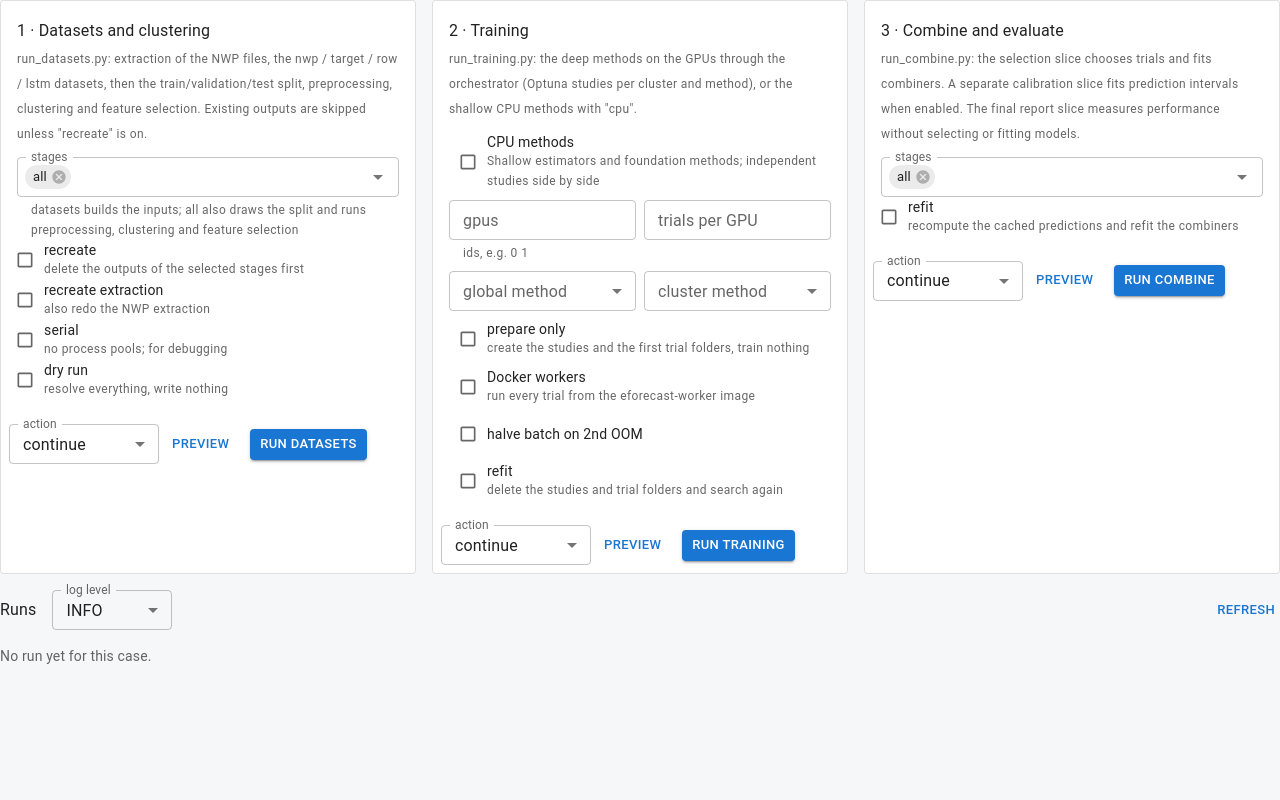
Test: run actions and failures › starts, inspects, stops and deletes a run through the HTTP boundary
Expected: the text "No run yet for this case." is shown, [0,648,152,664]
Click the button "Run training": (739, 545) [682,530,795,561]
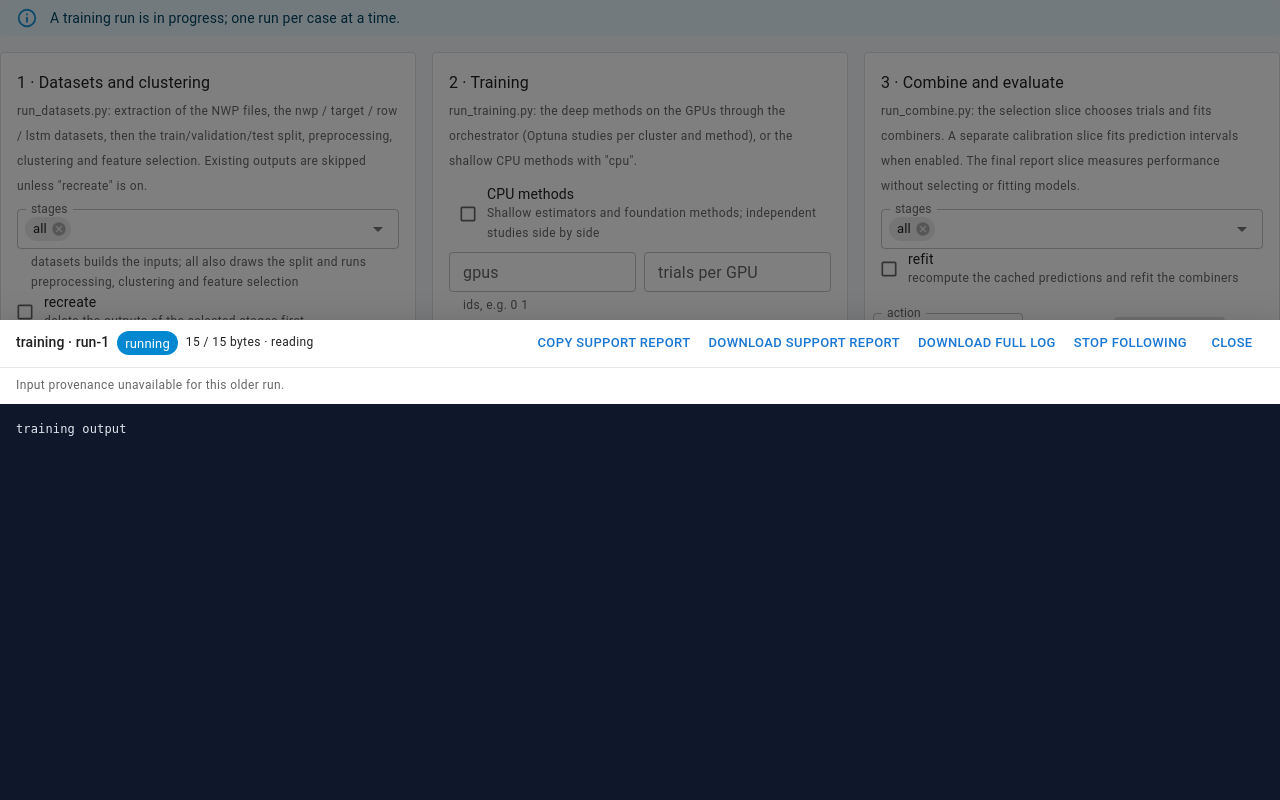
Expected: the text "training output" is shown, [0,404,1279,799]
Click the button "Close": (1232, 343) [1200,328,1264,359]
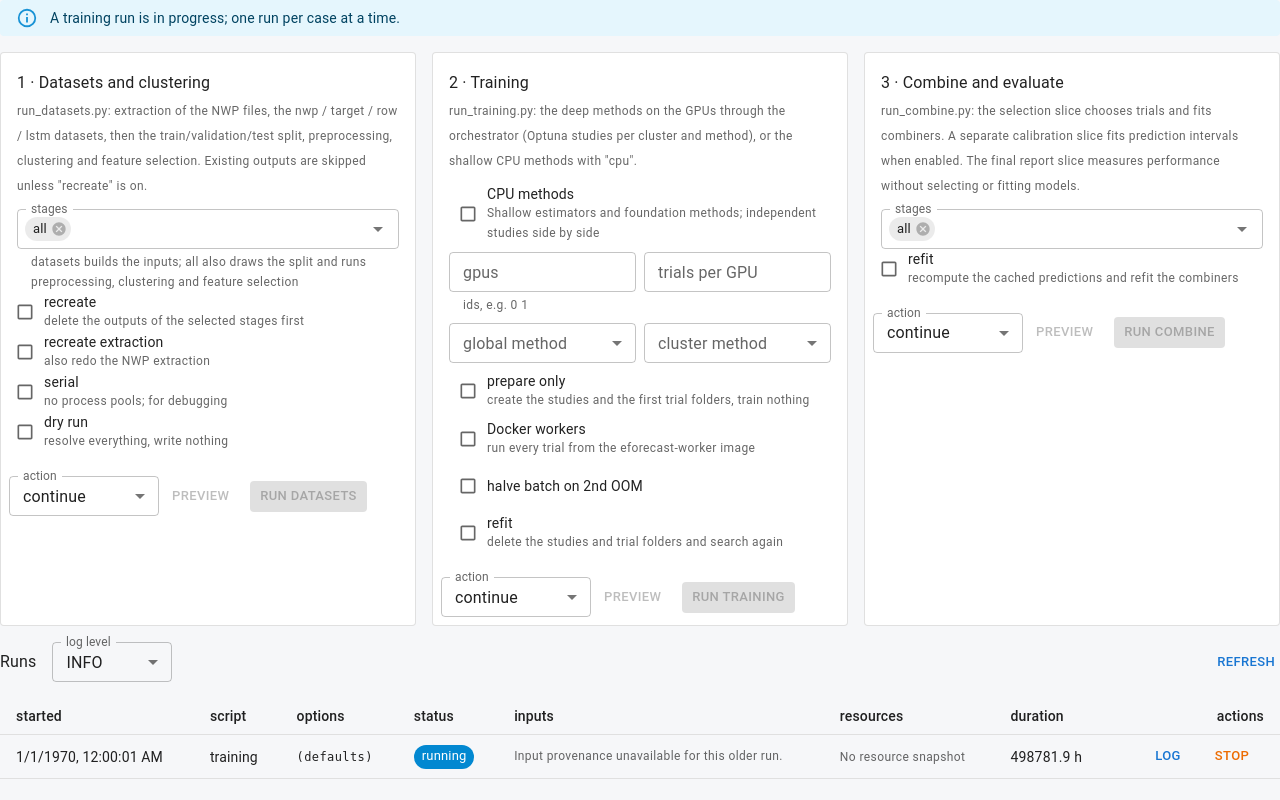
Click the button "Stop": (1232, 757) [1200,741,1264,772]
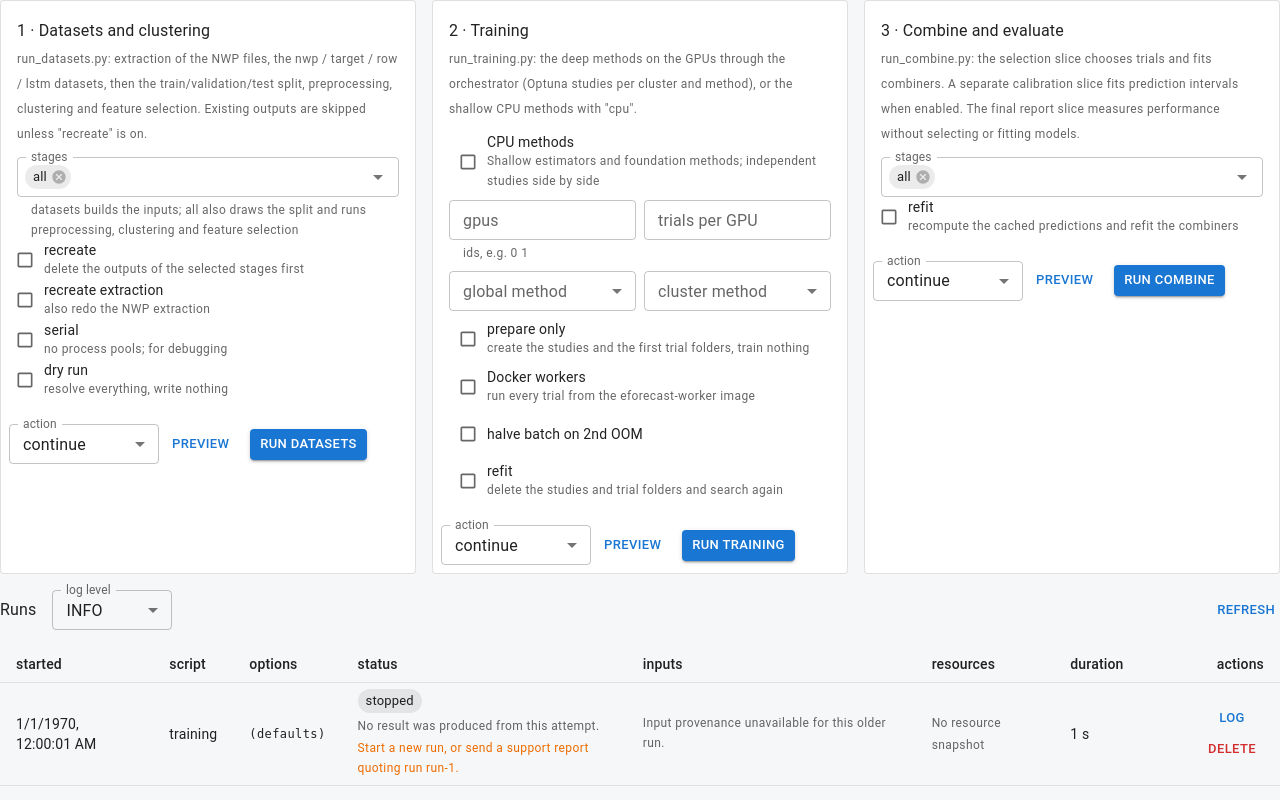
Click the button "Delete": (1232, 750) [1200,734,1264,765]
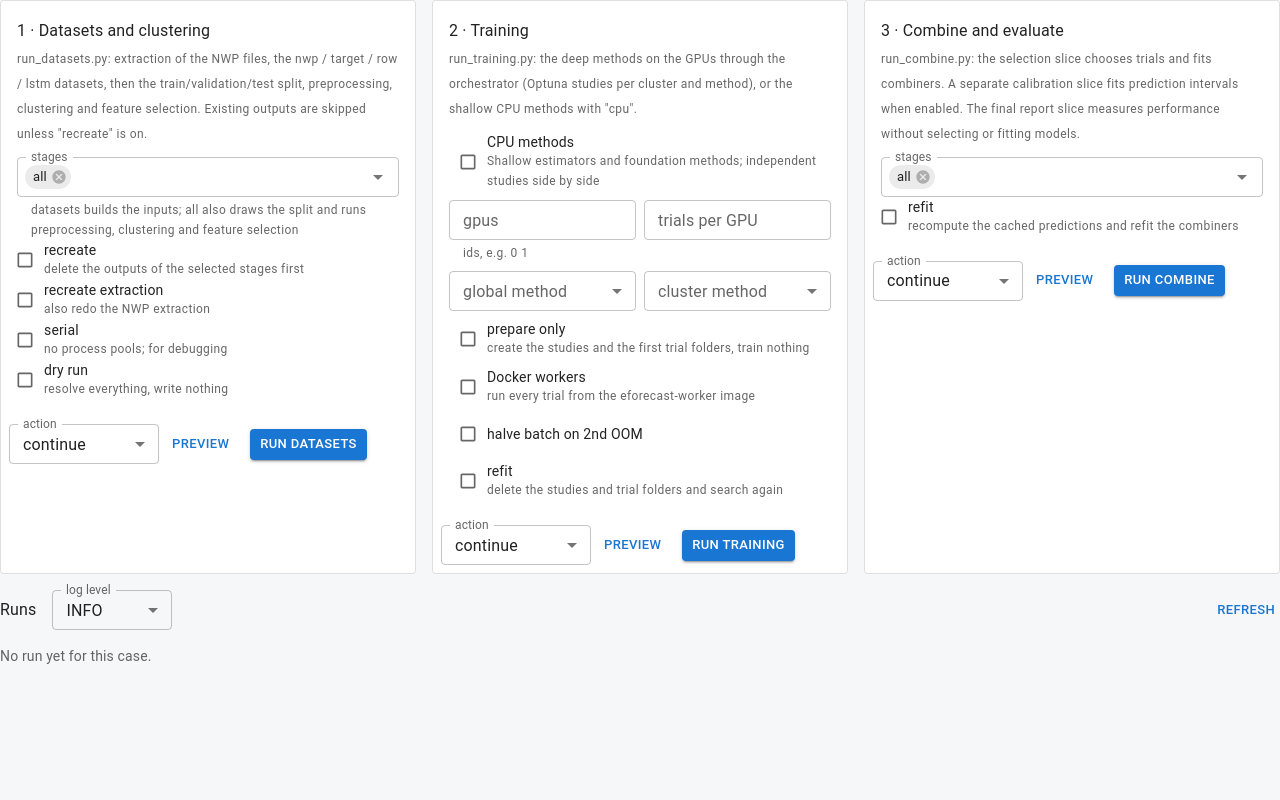
Expected: the text "No run yet for this case." is shown, [0,648,152,664]
